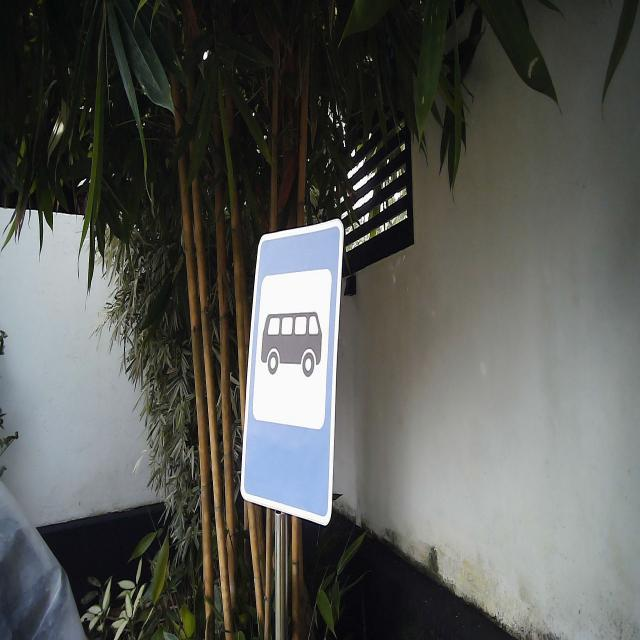bus_stop: (238, 216, 346, 528)
